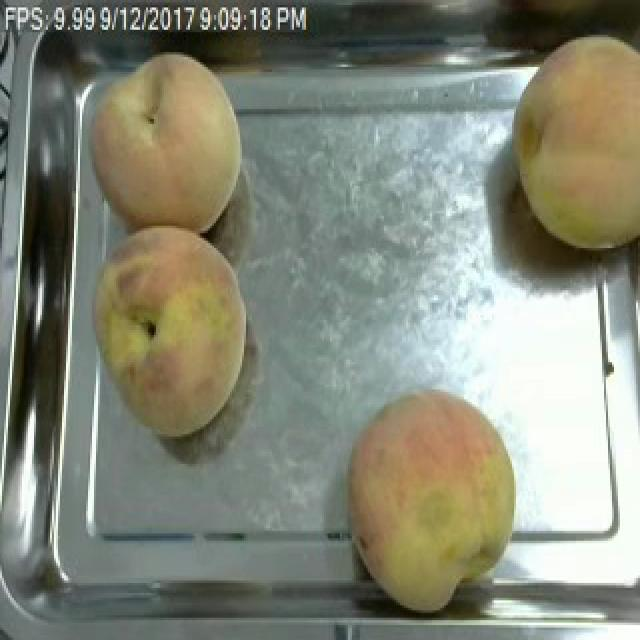Fruit: (334, 380, 528, 620), (76, 214, 256, 446), (74, 40, 254, 238), (500, 22, 640, 260)
